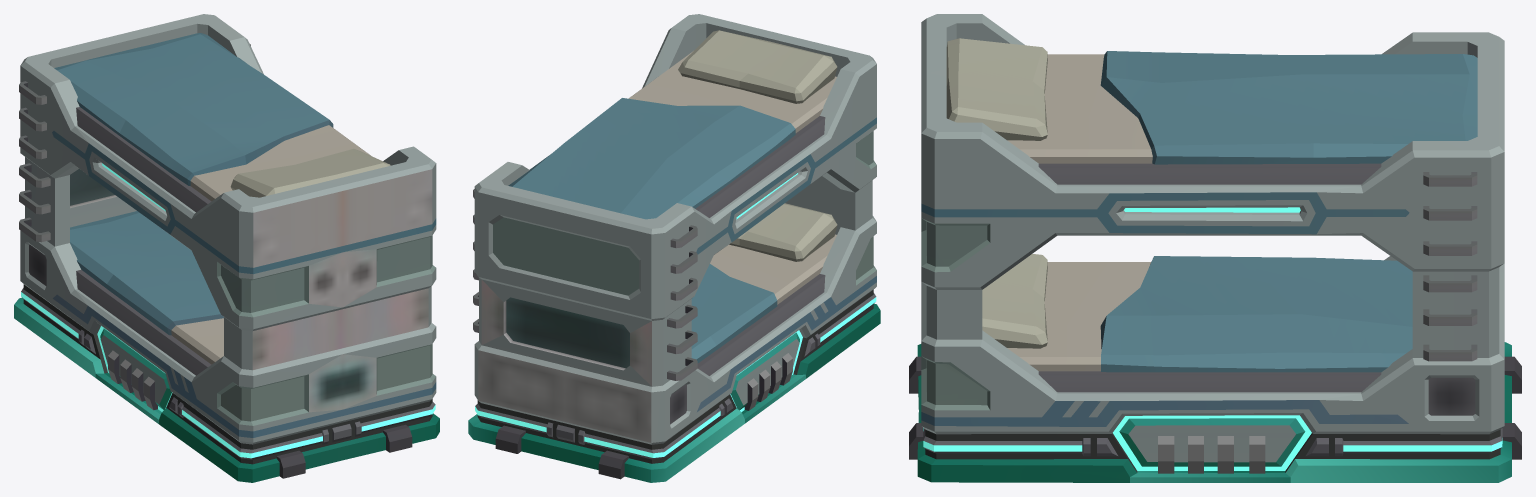
Rendered from entity763576.glb.
The picture shows the model from 3 angles, left to right: view 1: azimuth 30°, elevation 25°; view 2: azimuth 150°, elevation 25°; view 3: azimuth 270°, elevation 25°; orthographic projection. The views are drawn at different scales.
Parts seen in each view (by area): view 1: node_SM_Prop_Bed_Double_01; view 2: node_SM_Prop_Bed_Double_01; view 3: node_SM_Prop_Bed_Double_01.
Boxes of the visible parts, x1=… form: node_SM_Prop_Bed_Double_01: x1=14, y1=14, x2=439, y2=482; node_SM_Prop_Bed_Double_01: x1=468, y1=14, x2=880, y2=482; node_SM_Prop_Bed_Double_01: x1=909, y1=14, x2=1521, y2=482.
Size of the model in its own units: 1.42 by 1.72 by 2.74.
2 materials, 2 textured.
